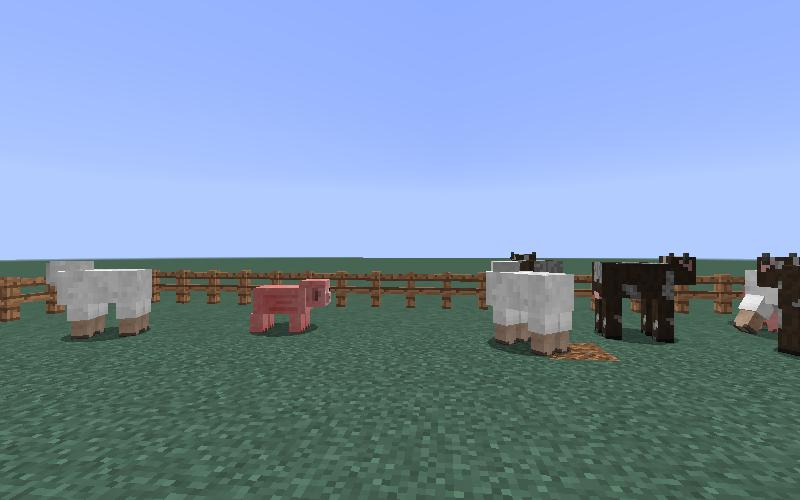cow: (587, 247, 701, 350), (757, 252, 800, 353)
pig: (247, 275, 334, 339)
sheep: (478, 257, 580, 365), (40, 252, 160, 342)
